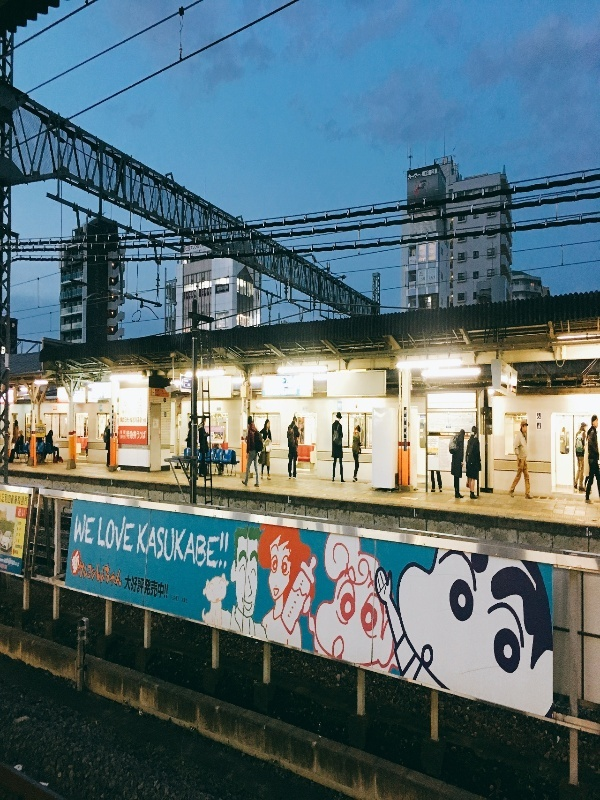text: (2, 492, 16, 575), (17, 492, 29, 575), (145, 522, 160, 573), (161, 522, 176, 573), (177, 522, 192, 573), (193, 522, 208, 573), (209, 522, 224, 573), (113, 515, 128, 557), (81, 549, 96, 591), (97, 549, 112, 591), (81, 513, 96, 548), (101, 515, 112, 557), (129, 572, 144, 602), (145, 572, 160, 602), (113, 549, 123, 591), (405, 408, 416, 437), (138, 522, 144, 573), (73, 549, 80, 591), (161, 572, 170, 602), (225, 522, 230, 573), (129, 515, 135, 557), (129, 431, 144, 441), (76, 513, 80, 548), (177, 593, 188, 604), (129, 417, 144, 423), (121, 431, 128, 440), (126, 572, 128, 602), (171, 593, 176, 604), (121, 417, 128, 423), (127, 431, 128, 441), (145, 431, 146, 441), (145, 417, 146, 423)
